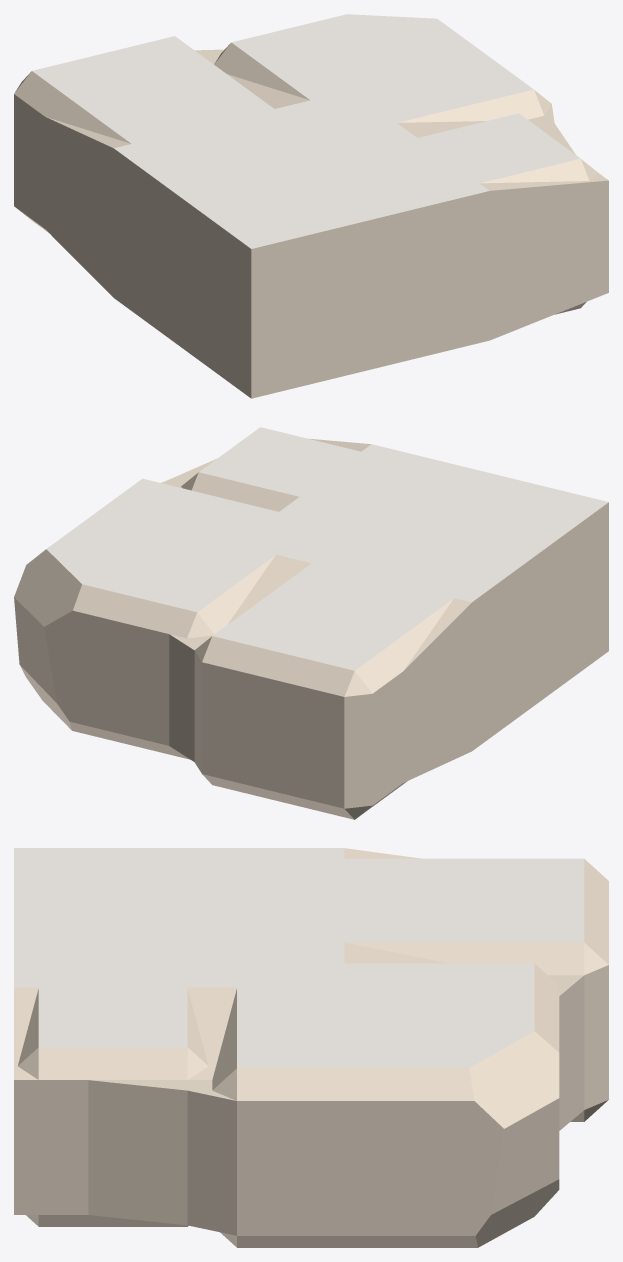
File: Floor_Ruined_Corner_Outer_1.glb
3 views of the same model, one above another, from view 1: azimuth 30°, elevation 25°; view 2: azimuth 150°, elevation 25°; view 3: azimuth 270°, elevation 25° (orthographic). The views are drawn at different scales.
Parts seen in each view (by area): view 1: Floor_Ruined_Corner_Outer_1; view 2: Floor_Ruined_Corner_Outer_1; view 3: Floor_Ruined_Corner_Outer_1.
Part boxes in pixels (x1=…): Floor_Ruined_Corner_Outer_1: x1=14, y1=14, x2=608, y2=398; Floor_Ruined_Corner_Outer_1: x1=14, y1=427, x2=608, y2=819; Floor_Ruined_Corner_Outer_1: x1=14, y1=848, x2=608, y2=1247.
Size of the model in its own units: 0.2475 by 0.09 by 0.27.
